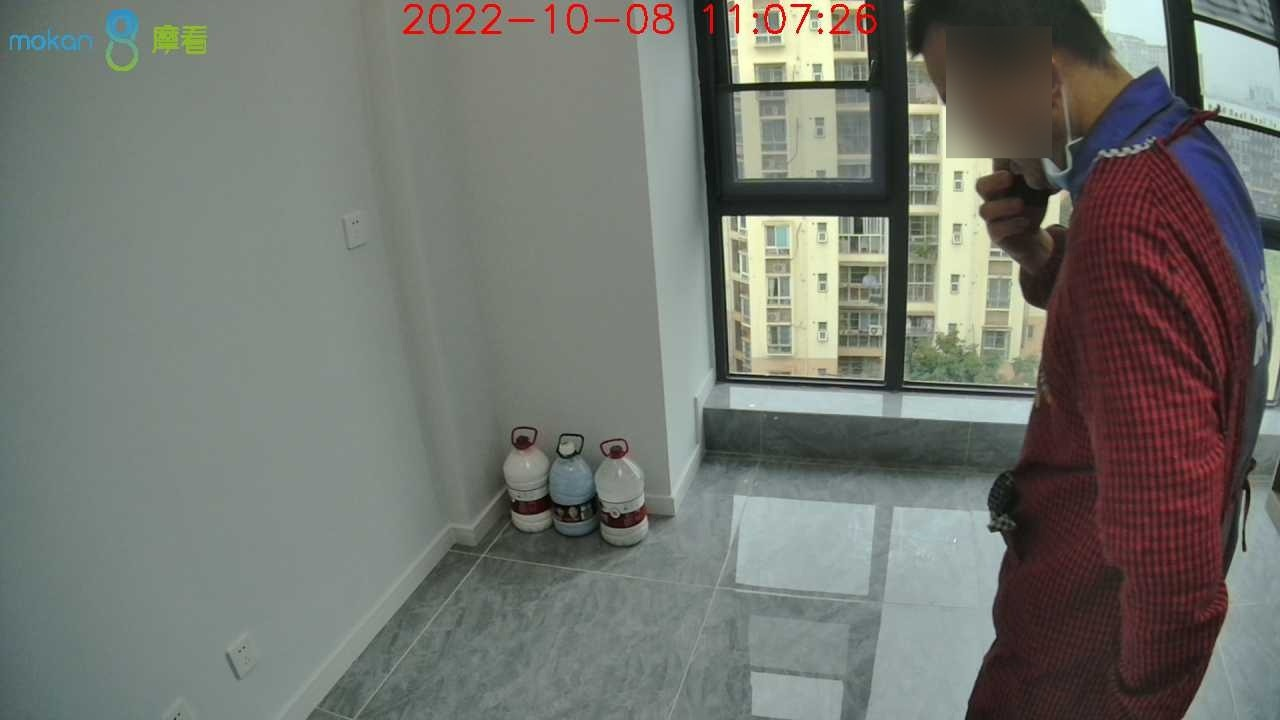people: (903, 1, 1271, 720)
window: (692, 5, 1015, 387)
